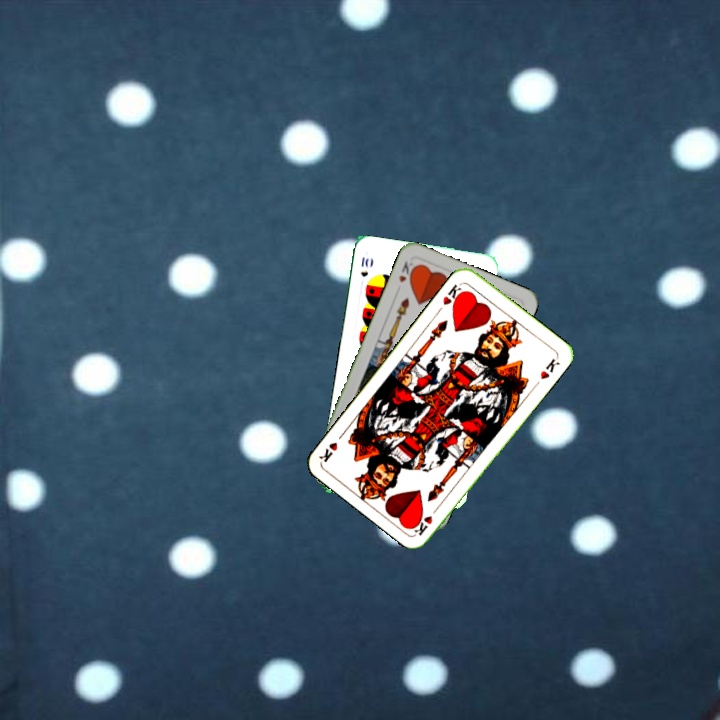HK: (410, 502, 442, 538), (439, 279, 467, 309), (394, 257, 418, 285)
S10: (357, 253, 371, 279)
